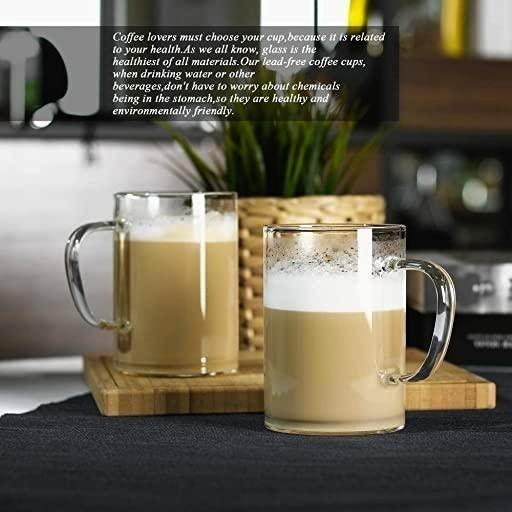glass-mug: (256, 216, 458, 438), (58, 182, 246, 384)
